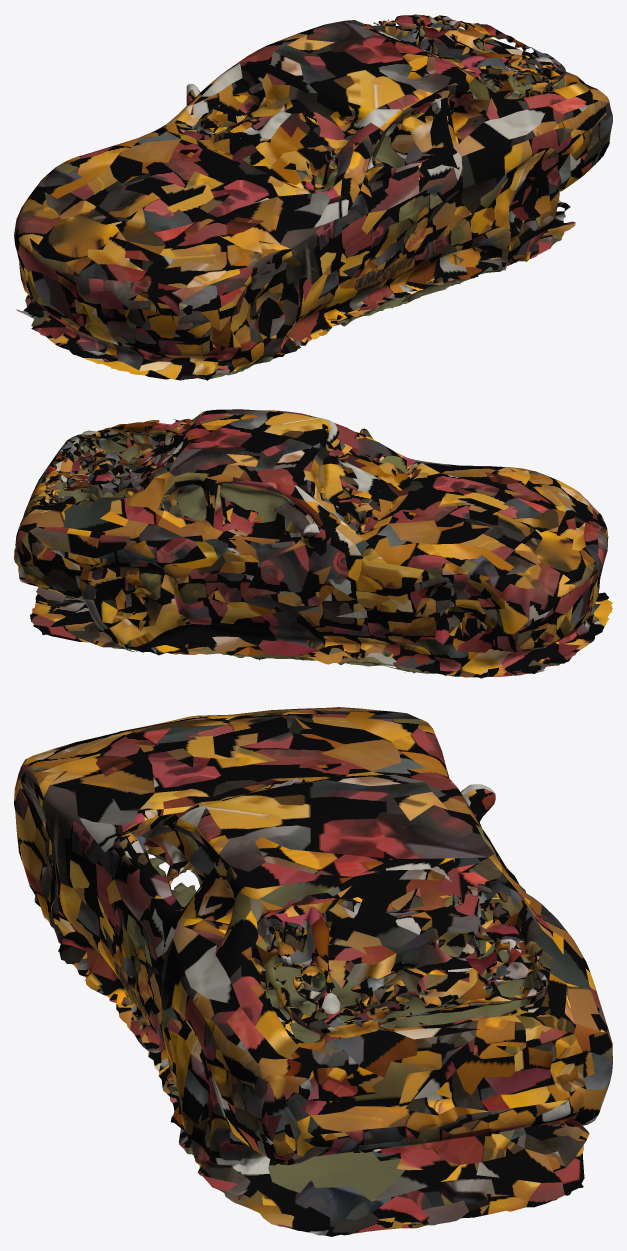
The model's file is mesh_lowpoly.obj.
3 renders of one model, top to bottom at view 1: azimuth 30°, elevation 25°; view 2: azimuth 150°, elevation 25°; view 3: azimuth 270°, elevation 25°, orthographic. The views are drawn at different scales.
Size of the model in its own units: 1.05 by 0.4106 by 0.676.
